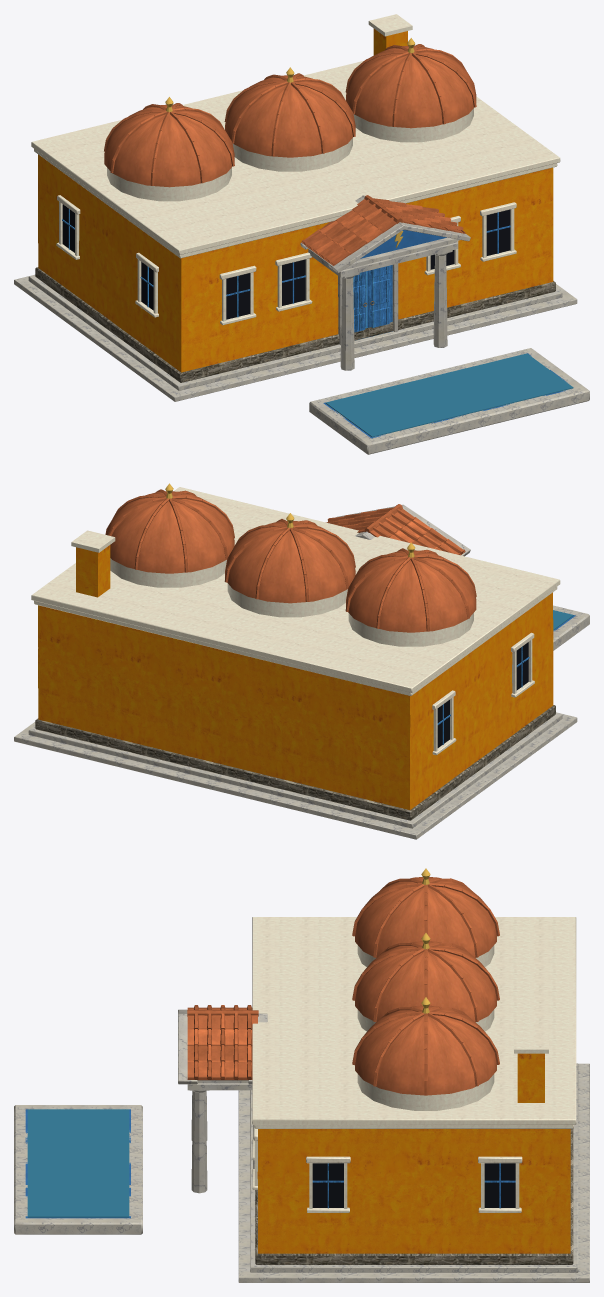
The model's file is civic_bathhouse.glb.
3 views of the same model, one above another, from view 1: azimuth 30°, elevation 25°; view 2: azimuth 150°, elevation 25°; view 3: azimuth 270°, elevation 25° (orthographic). The views are drawn at different scales.
Parts seen in each view (by area): view 1: ochre, cream, terracotta0, step, water.001, marble, stone_dark, dark, azure_wood, terracotta1, terracotta2, paint_azure; view 2: ochre, cream, terracotta0, step, stone_dark, terracotta1, dark, terracotta2, marble; view 3: cream, ochre, terracotta0, step, water.001, stone_dark, marble, dark, terracotta1, terracotta2.
Part boxes in pixels (left/top/right/bottom): ochre: left=38, top=28, right=553, bottom=372; cream: left=31, top=14, right=560, bottom=325; terracotta0: left=104, top=44, right=476, bottom=265; step: left=14, top=274, right=589, bottom=454; water.001: left=325, top=353, right=573, bottom=437; marble: left=300, top=195, right=470, bottom=370; stone_dark: left=35, top=267, right=555, bottom=382; dark: left=62, top=204, right=510, bottom=319; azure_wood: left=62, top=209, right=510, bottom=340; terracotta1: left=302, top=195, right=464, bottom=264; terracotta2: left=315, top=204, right=451, bottom=253; paint_azure: left=323, top=230, right=571, bottom=438; ochre: left=38, top=545, right=553, bottom=809; cream: left=31, top=487, right=560, bottom=755; terracotta0: left=105, top=489, right=476, bottom=632; step: left=14, top=605, right=589, bottom=839; stone_dark: left=35, top=705, right=555, bottom=820; terracotta1: left=326, top=504, right=464, bottom=554; dark: left=437, top=642, right=528, bottom=747; terracotta2: left=338, top=510, right=448, bottom=548; marble: left=336, top=504, right=470, bottom=556; cream: left=252, top=917, right=576, bottom=1212; ochre: left=257, top=1053, right=570, bottom=1253; terracotta0: left=187, top=877, right=499, bottom=1095; step: left=14, top=1063, right=589, bottom=1282; water.001: left=27, top=1109, right=129, bottom=1217; stone_dark: left=255, top=1129, right=573, bottom=1264; marble: left=178, top=1009, right=267, bottom=1193; dark: left=312, top=1163, right=515, bottom=1207; terracotta1: left=187, top=1005, right=258, bottom=1079; terracotta2: left=187, top=1005, right=252, bottom=1079.
Size of the model in its own units: 13 by 6.88 by 14.75.
14 materials, 11 textured.
